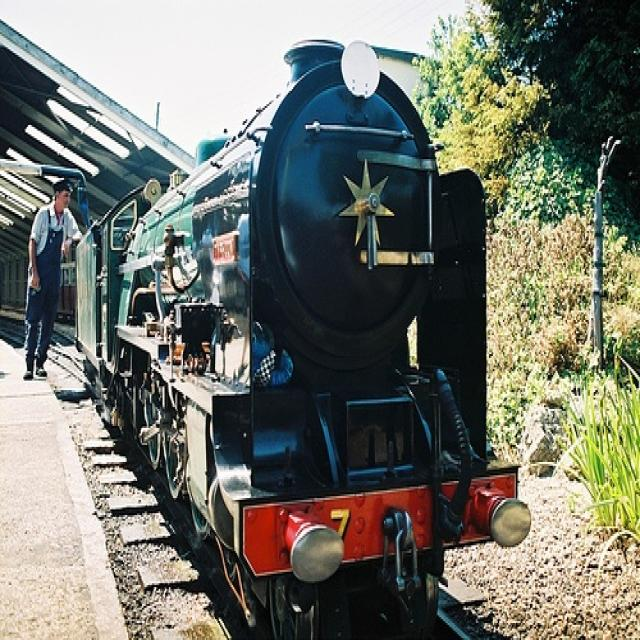train: (71, 34, 532, 634)
